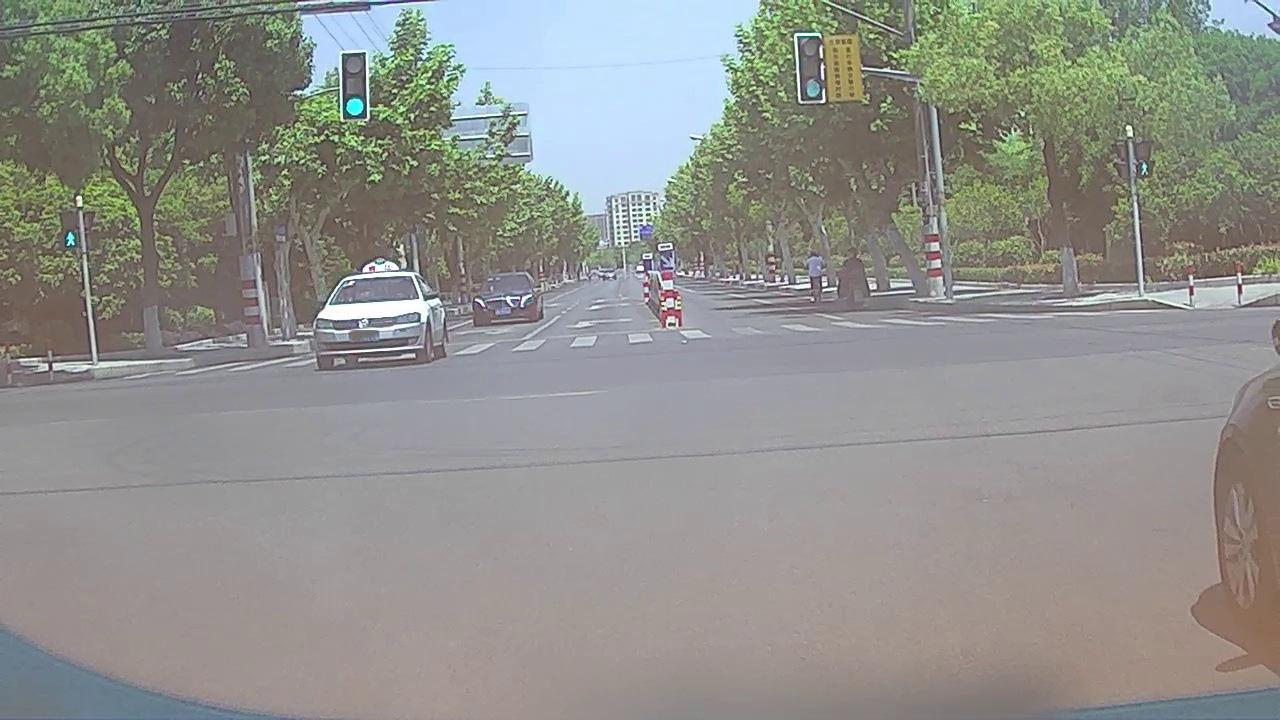traffic_light: (798, 33, 823, 101), (342, 52, 366, 119)
